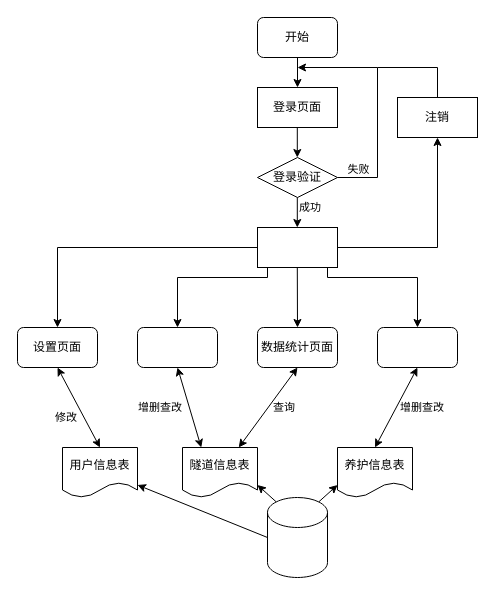
Image size: 495x595. Some labels were removed from this diagram. The centre of each missing label's shape, as x and y in pixels:
主界面: the point at 297,247
养护信息页面: the point at 417,347
数据库: the point at 297,537
隧道信息页面: the point at 177,347
